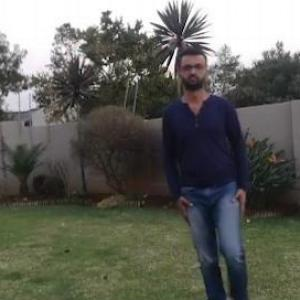follow: (160, 25, 255, 299)
